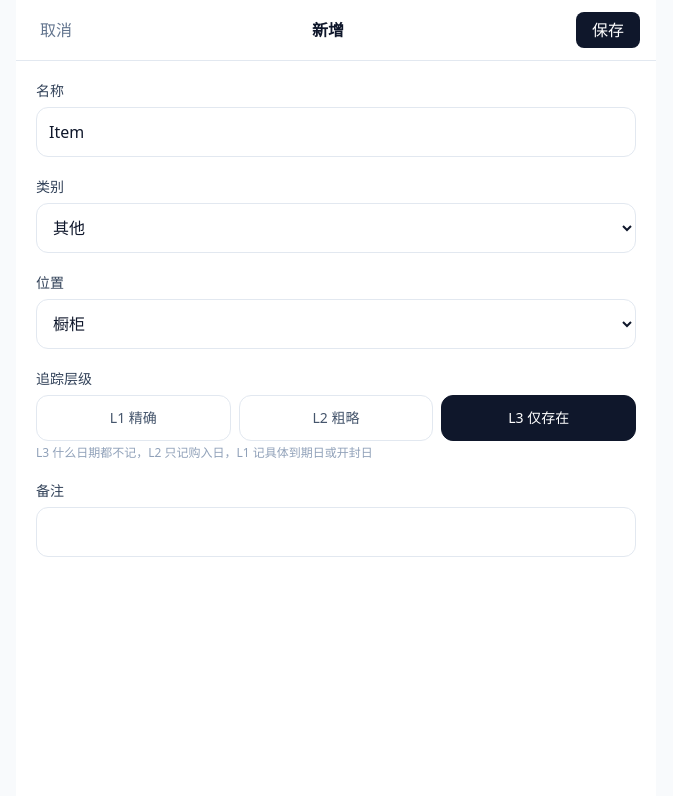
Scenario: tier-based field disclosure (SPEC §6) › updates visible fields immediately when the tier changes
Click the button "L2 粗略": [336, 418] box top-left (239, 395), bottom-right (433, 441)
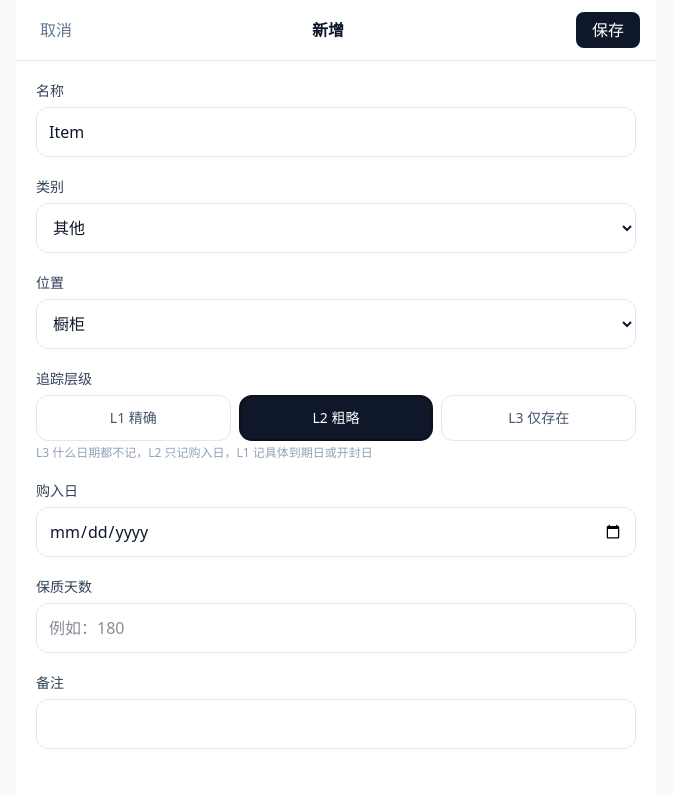
Expected: the text "购入日" is shown, top-left (36, 481), bottom-right (78, 500)
Click the button "L1 精确": [133, 418] box top-left (36, 395), bottom-right (231, 441)
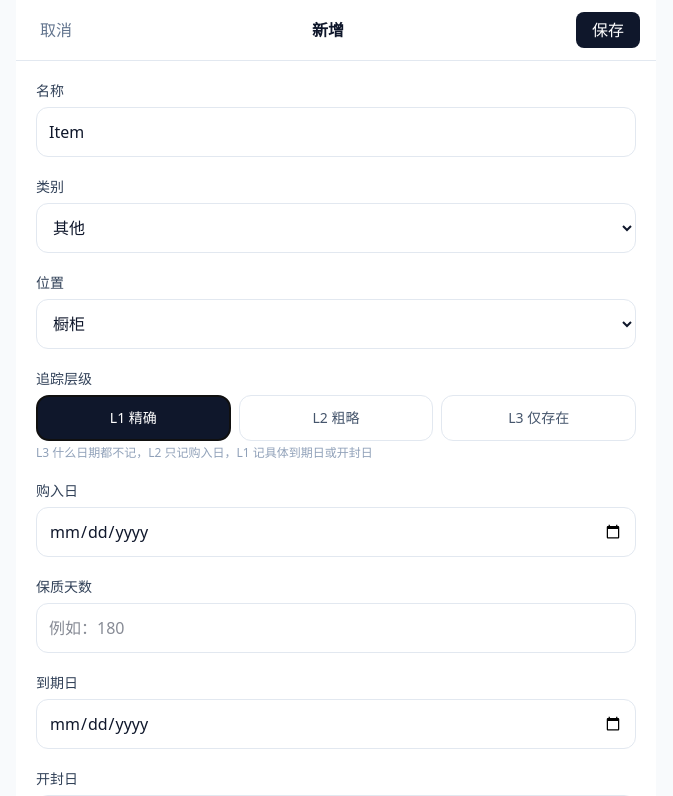
Expected: the text "到期日" is shown, top-left (36, 673), bottom-right (78, 692)
